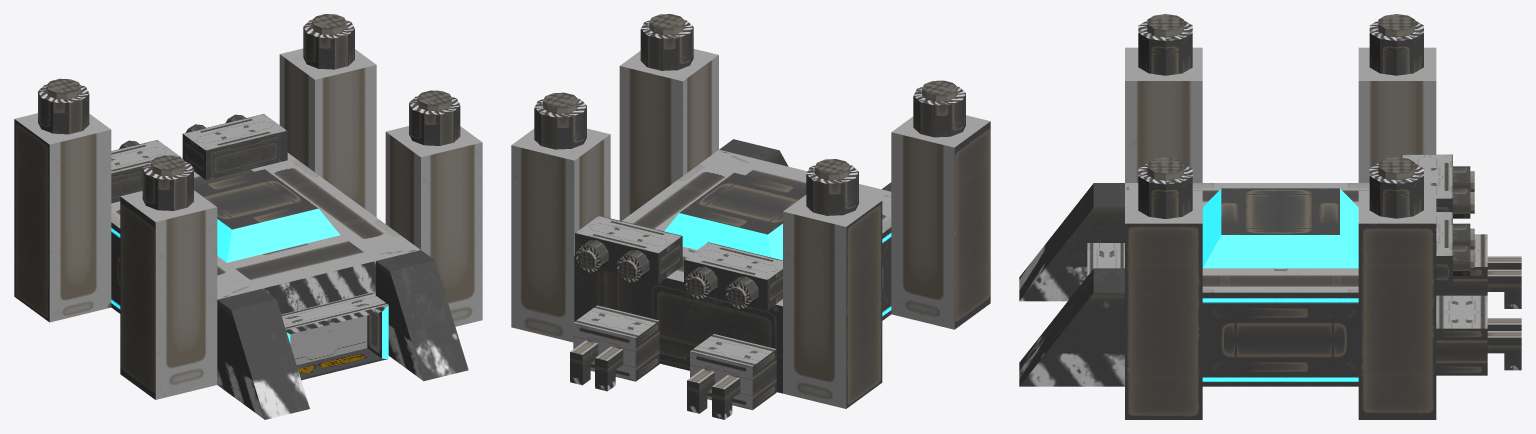
The model's file is factory1.glb.
The picture shows the model from 3 angles, left to right: view 1: azimuth 30°, elevation 25°; view 2: azimuth 150°, elevation 25°; view 3: azimuth 270°, elevation 25°; orthographic projection. The views are drawn at different scales.
Visible parts, largest first — view 1: Matter_Factory_building; view 2: Matter_Factory_building; view 3: Matter_Factory_building.
Boxes of the visible parts, x1,y1,x2,y2 form: Matter_Factory_building: (14, 14, 482, 419); Matter_Factory_building: (511, 14, 990, 419); Matter_Factory_building: (1019, 14, 1521, 419).
Size of the model in its own units: 803 by 512 by 967.
Materials: 1 (1 with a texture image).
